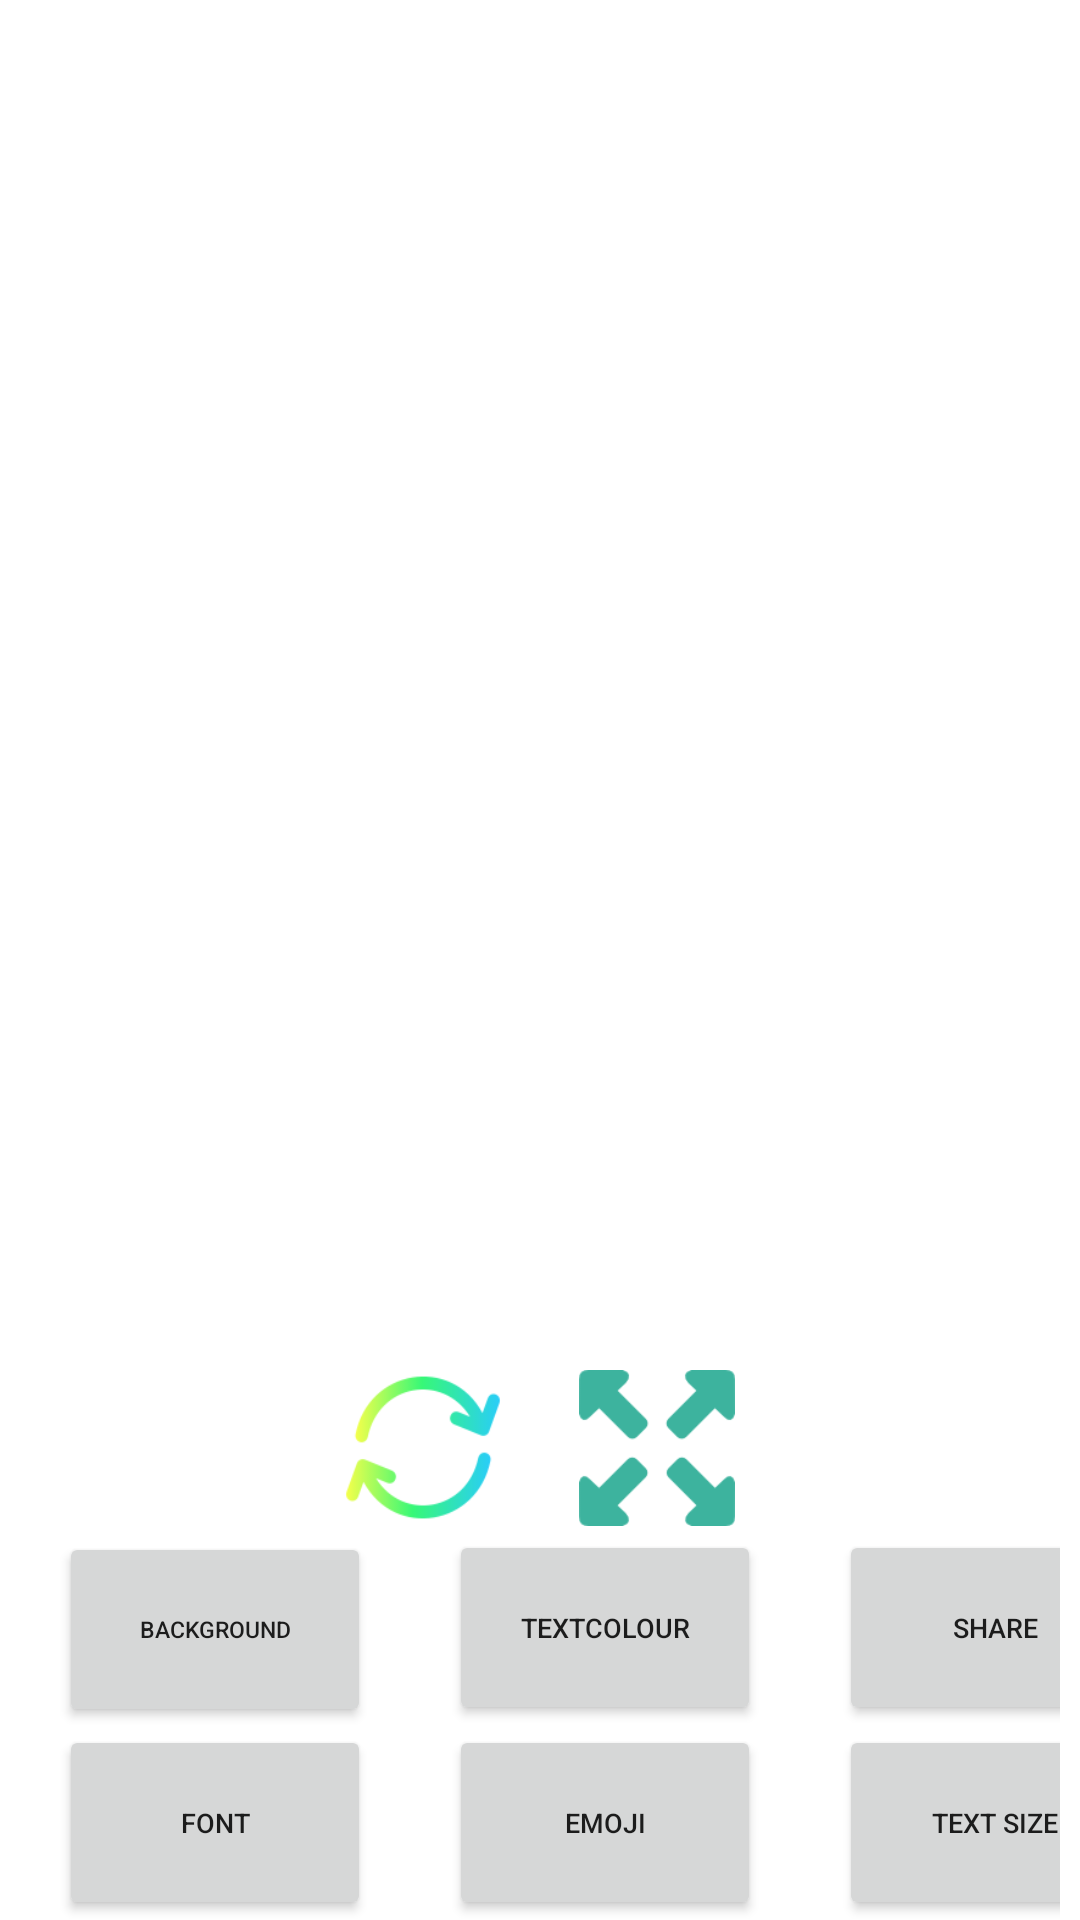

Screen size 1080 x 1920. Icon name, then its box in pixels as (x1, y1, x2, y2):
extend buttton: (579, 1370, 735, 1526)
